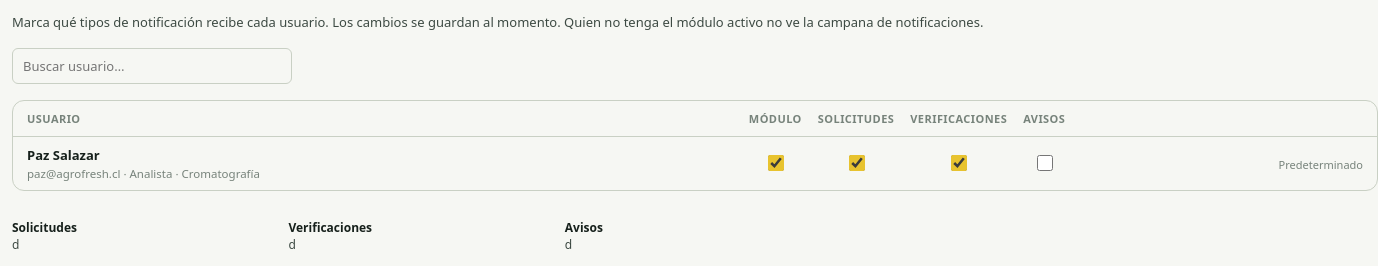
it: SuscripcionesPanel › desmarcar un tipo guarda los demás, sin ese
Click the checkbox named "Verificaciones diarias para Paz Salazar": [959, 163] box [951, 155, 967, 171]
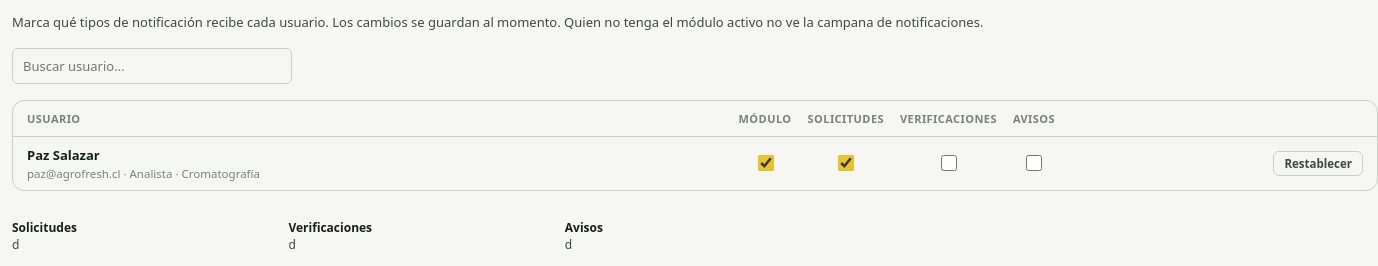
Expected: the checkbox named "Verificaciones diarias para Paz Salazar" is not checked, [941, 155, 957, 171]
Expected: the button "Restablecer" is shown, [1273, 151, 1363, 176]
